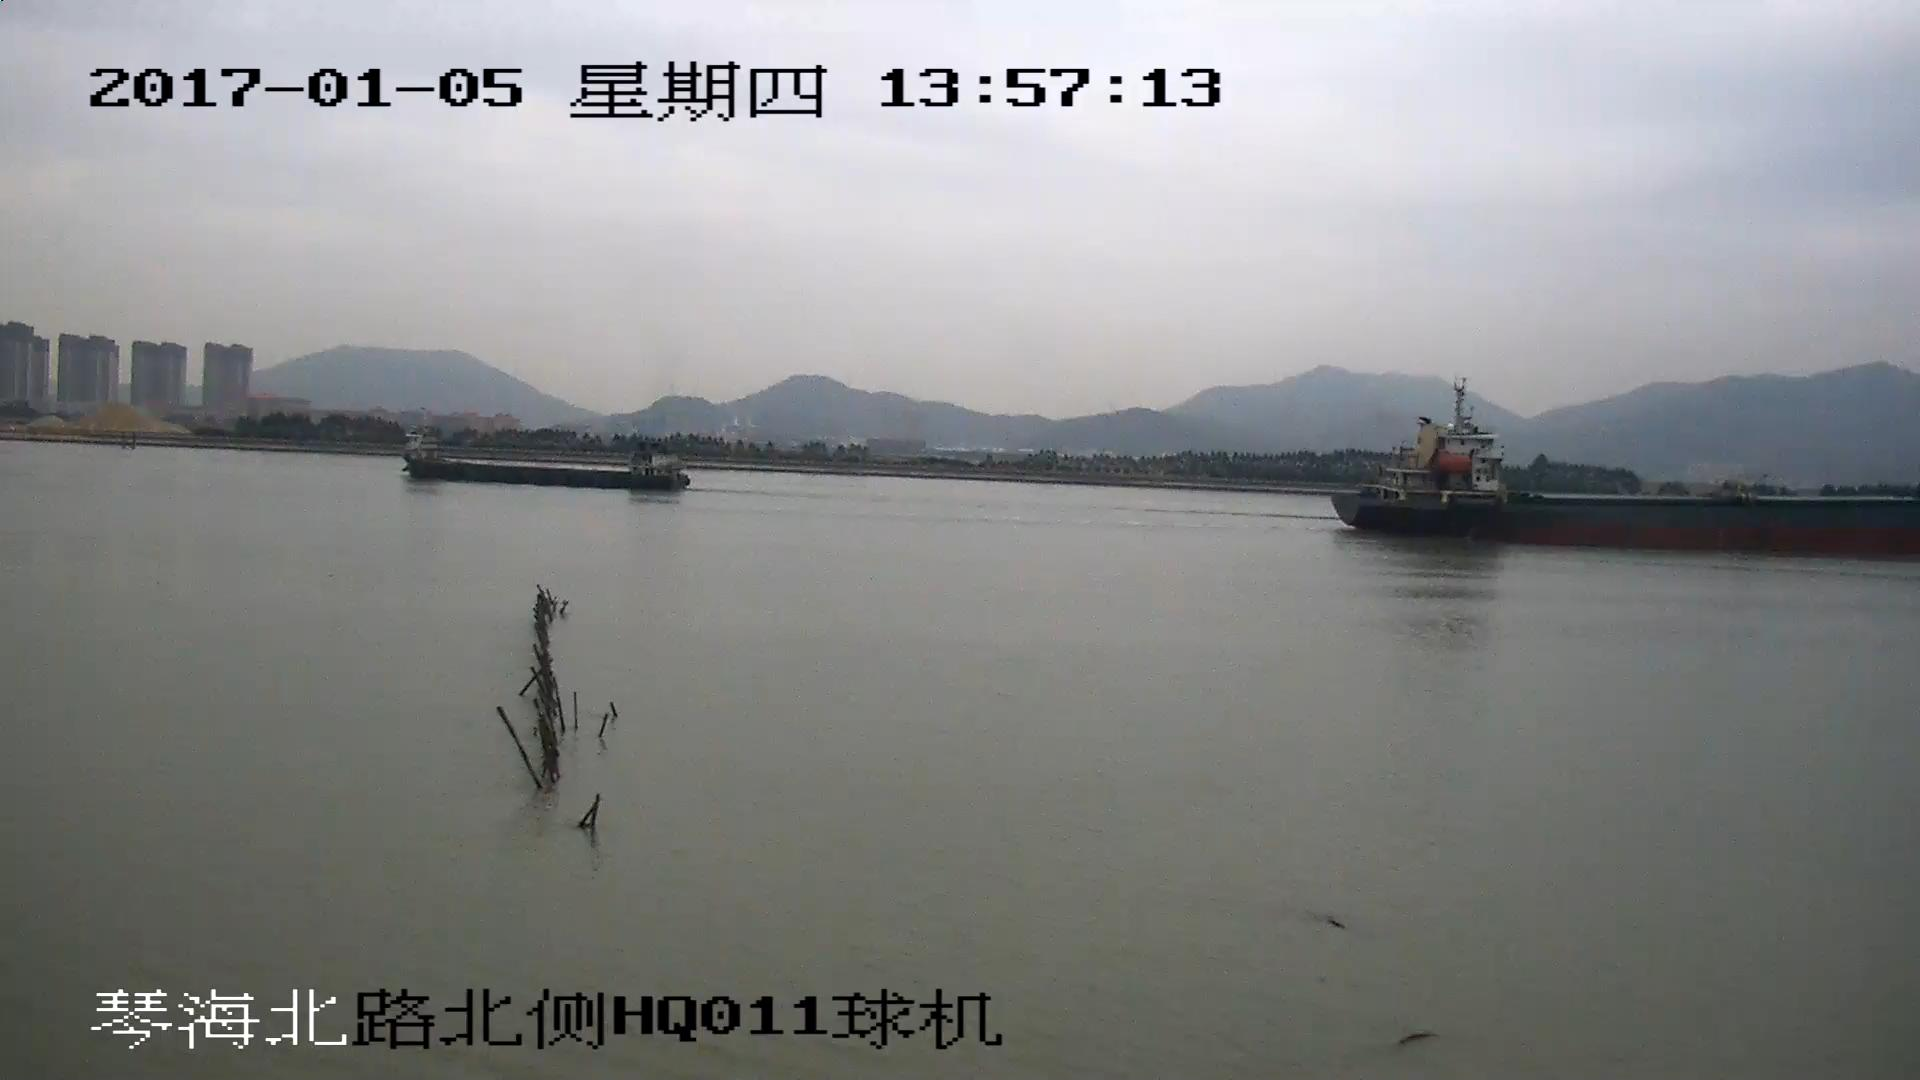general cargo ship: (1335, 377, 1920, 559), (404, 424, 690, 494)
